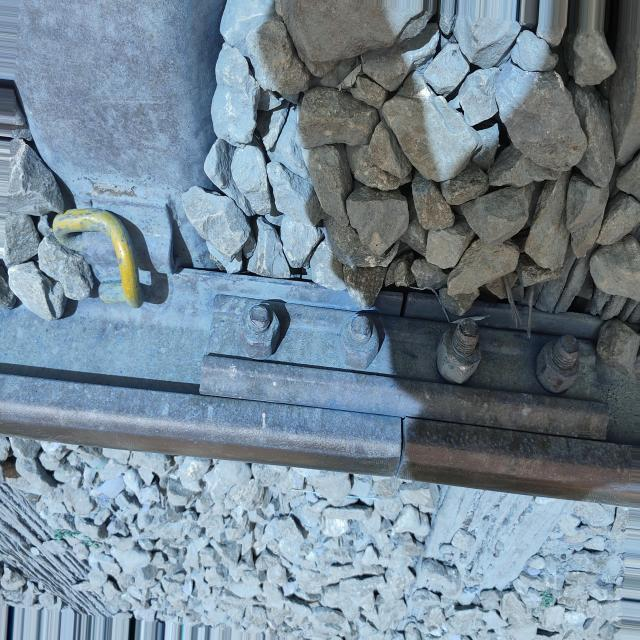Good Fasteners: (53, 205, 176, 307)
Good Joint: (200, 283, 625, 442)
